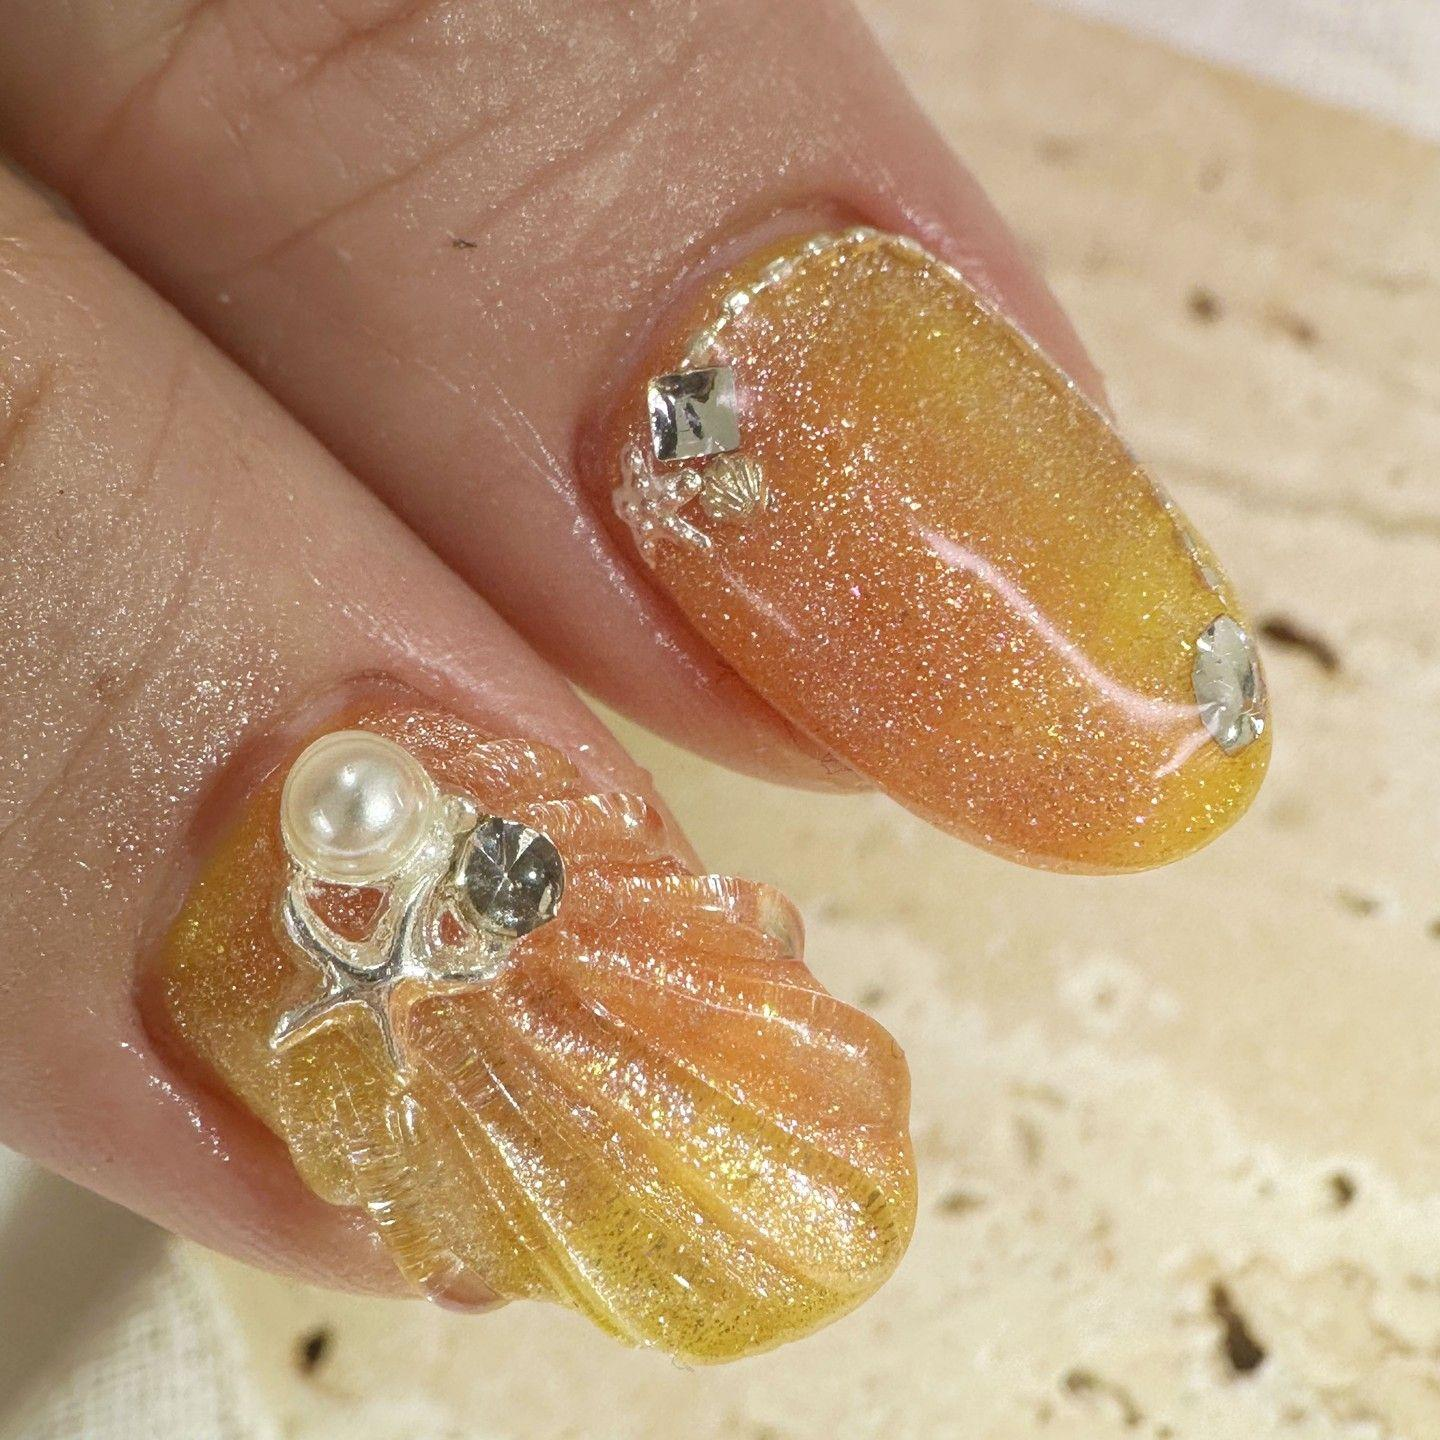nail: (148, 704, 920, 1366), (597, 220, 1273, 876)
